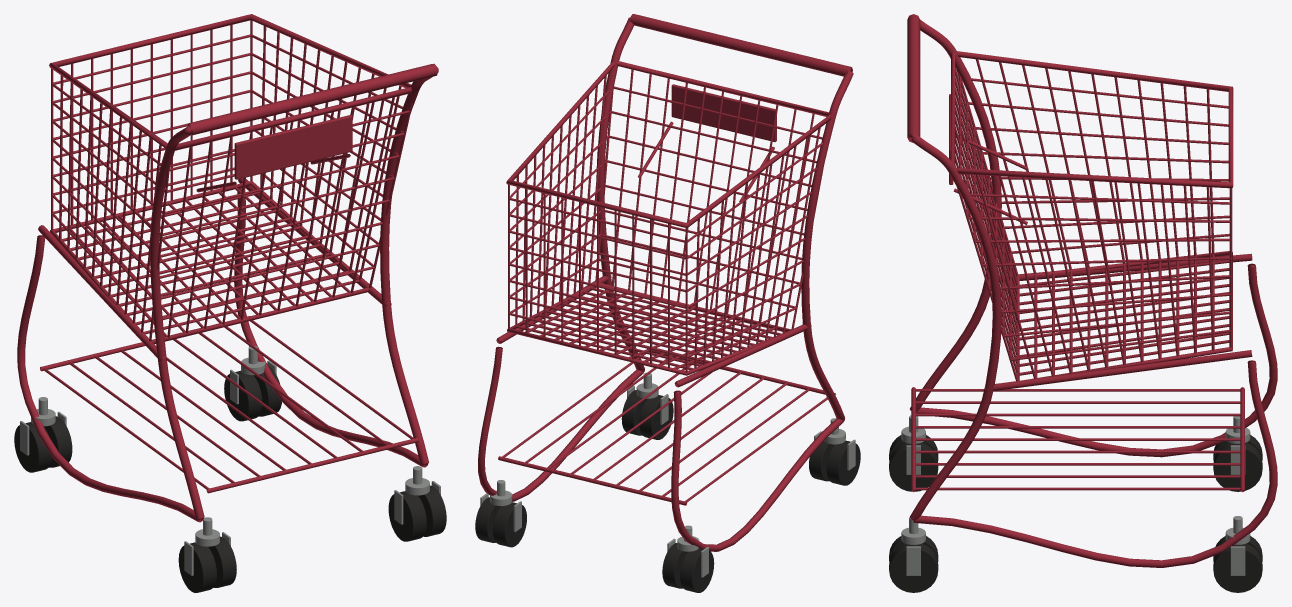
The model's file is cart-aa2fba3d0e5e.glb.
The picture shows the model from 3 angles, left to right: view 1: azimuth 30°, elevation 25°; view 2: azimuth 150°, elevation 25°; view 3: azimuth 270°, elevation 25°; orthographic projection. The views are drawn at different scales.
Visible parts, largest first — view 1: red_shopping_cart__basket_bottom_rim, red_shopping_cart__caster_0.258_-0.385_wheel_-1, red_shopping_cart__caster_-0.258_-0.385_wheel_-1, red_shopping_cart__caster_-0.258_0.31499999999999995_wheel_-, red_shopping_cart__caster_0.258_0.31499999999999995_wheel_-1, red_shopping_cart__caster_0.258_-0.385_axle, red_shopping_cart__caster_-0.258_-0.385_axle, red_shopping_cart__caster_stem_-0.258_-0.385, red_shopping_cart__caster_-0.258_0.31499999999999995_axle, red_shopping_cart__caster_0.258_0.31499999999999995_axle; view 2: red_shopping_cart__basket_bottom_rim, red_shopping_cart__caster_-0.258_0.31499999999999995_wheel_-, red_shopping_cart__caster_0.258_0.31499999999999995_wheel_-1, red_shopping_cart__caster_-0.258_-0.385_wheel_-1, red_shopping_cart__caster_0.258_-0.385_wheel_-1, red_shopping_cart__caster_0.258_0.31499999999999995_axle, red_shopping_cart__caster_0.258_-0.385_axle, red_shopping_cart__caster_-0.258_0.31499999999999995_axle, red_shopping_cart__caster_-0.258_-0.385_axle; view 3: red_shopping_cart__basket_bottom_rim, red_shopping_cart__caster_0.258_-0.385_wheel_-1, red_shopping_cart__caster_0.258_0.31499999999999995_wheel_-1, red_shopping_cart__caster_-0.258_-0.385_wheel_-1, red_shopping_cart__caster_-0.258_0.31499999999999995_wheel_-, red_shopping_cart__caster_0.258_-0.385_axle, red_shopping_cart__caster_0.258_0.31499999999999995_axle, red_shopping_cart__caster_-0.258_-0.385_axle, red_shopping_cart__caster_-0.258_0.31499999999999995_axle.
Part boxes in pixels (<box>): red_shopping_cart__basket_bottom_rim: <box>17,14,438,522</box>; red_shopping_cart__caster_0.258_-0.385_wheel_-1: <box>388,485,446,541</box>; red_shopping_cart__caster_-0.258_-0.385_wheel_-1: <box>178,536,236,592</box>; red_shopping_cart__caster_-0.258_0.31499999999999995_wheel_-: <box>14,416,72,472</box>; red_shopping_cart__caster_0.258_0.31499999999999995_wheel_-1: <box>224,366,281,421</box>; red_shopping_cart__caster_0.258_-0.385_axle: <box>394,478,440,524</box>; red_shopping_cart__caster_-0.258_-0.385_axle: <box>184,529,230,575</box>; red_shopping_cart__caster_stem_-0.258_-0.385: <box>38,346,422,535</box>; red_shopping_cart__caster_-0.258_0.31499999999999995_axle: <box>20,409,66,455</box>; red_shopping_cart__caster_0.258_0.31499999999999995_axle: <box>230,357,276,404</box>; red_shopping_cart__basket_bottom_rim: <box>478,14,853,551</box>; red_shopping_cart__caster_-0.258_0.31499999999999995_wheel_-: <box>662,543,714,592</box>; red_shopping_cart__caster_0.258_0.31499999999999995_wheel_-1: <box>475,497,526,547</box>; red_shopping_cart__caster_-0.258_-0.385_wheel_-1: <box>809,440,860,485</box>; red_shopping_cart__caster_0.258_-0.385_wheel_-1: <box>621,390,673,439</box>; red_shopping_cart__caster_0.258_0.31499999999999995_axle: <box>480,490,521,532</box>; red_shopping_cart__caster_0.258_-0.385_axle: <box>627,383,668,424</box>; red_shopping_cart__caster_-0.258_0.31499999999999995_axle: <box>667,536,708,577</box>; red_shopping_cart__caster_-0.258_-0.385_axle: <box>814,429,855,470</box>; red_shopping_cart__basket_bottom_rim: <box>907,14,1277,567</box>; red_shopping_cart__caster_0.258_-0.385_wheel_-1: <box>889,536,938,592</box>; red_shopping_cart__caster_0.258_0.31499999999999995_wheel_-1: <box>1213,536,1262,592</box>; red_shopping_cart__caster_-0.258_-0.385_wheel_-1: <box>889,435,938,491</box>; red_shopping_cart__caster_-0.258_0.31499999999999995_wheel_-: <box>1213,435,1262,491</box>; red_shopping_cart__caster_0.258_-0.385_axle: <box>901,527,925,575</box>; red_shopping_cart__caster_0.258_0.31499999999999995_axle: <box>1225,528,1250,575</box>; red_shopping_cart__caster_-0.258_-0.385_axle: <box>901,426,925,474</box>; red_shopping_cart__caster_-0.258_0.31499999999999995_axle: <box>1225,427,1250,474</box>.
Size of the model in its own units: 0.621 by 1.1 by 0.839.
